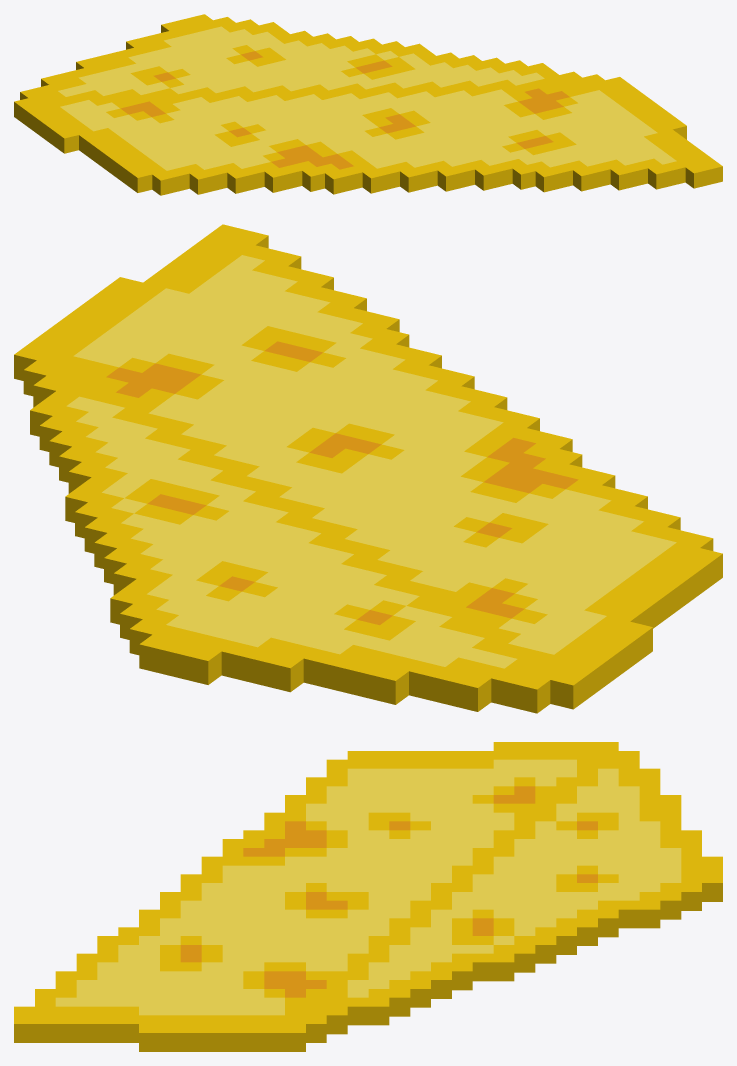
File: Cblr.obj
The picture shows the model from 3 angles, top to bottom: view 1: azimuth 30°, elevation 25°; view 2: azimuth 150°, elevation 25°; view 3: azimuth 270°, elevation 25°; orthographic projection. The views are drawn at different scales.
Visible parts, largest first — view 1: Cblr; view 2: Cblr; view 3: Cblr.
Boxes of the visible parts, x1,y1,x2,y2 form: Cblr: [14, 14, 722, 195]; Cblr: [14, 224, 722, 713]; Cblr: [14, 742, 722, 1051].
Bounding box in the file's own units: 33 × 1 × 34.
1 material, 1 textured.
